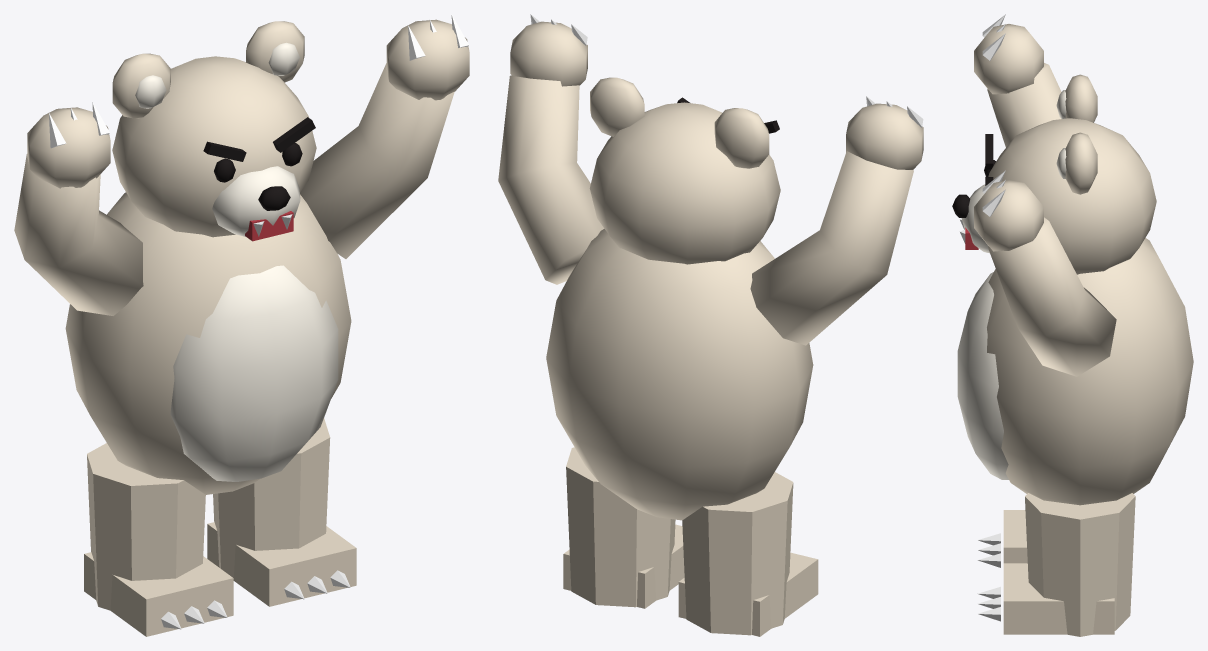
File: e_bear.glb
3 views of the same model, side by side, from view 1: azimuth 30°, elevation 25°; view 2: azimuth 150°, elevation 25°; view 3: azimuth 270°, elevation 25° (orthographic). The views are drawn at different scales.
Visible parts, largest first — view 1: bear; view 2: bear; view 3: bear.
Boxes of the visible parts, box(x1,y1,x2,y2) form: bear: box(14, 14, 469, 636); bear: box(498, 14, 923, 636); bear: box(952, 14, 1193, 636).
Bounding box in the file's own units: 1.7 × 2.04 × 0.915.
